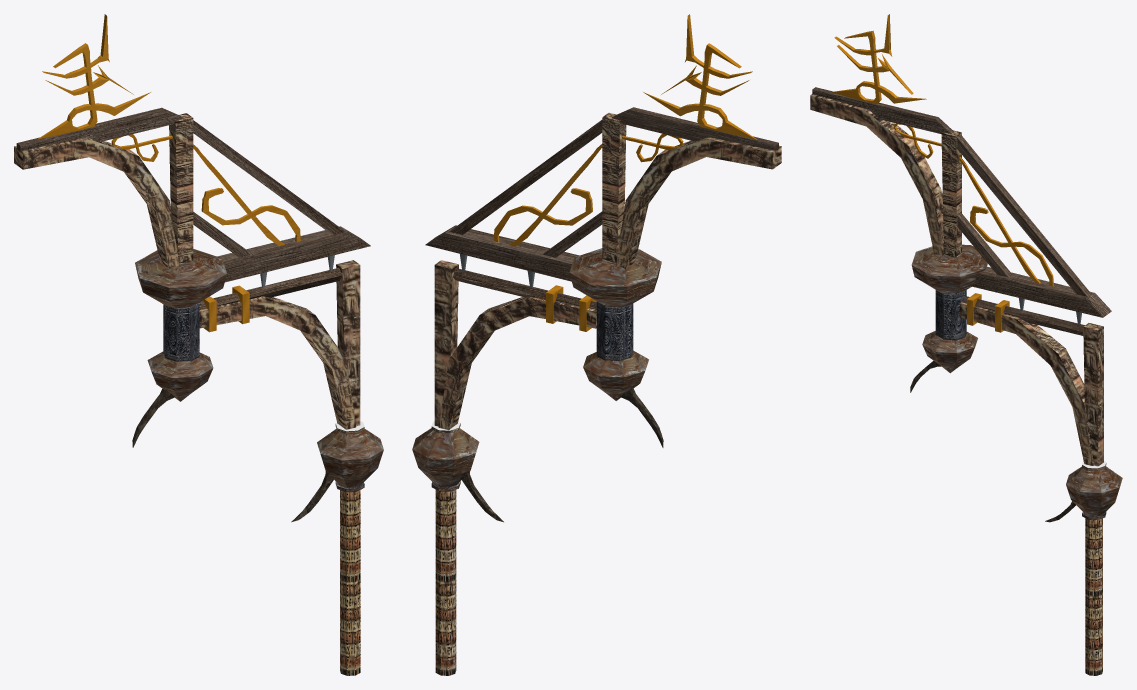
The model's file is HallwayArch_Single.fbx.
The picture shows the model from 3 angles, left to right: view 1: azimuth 30°, elevation 25°; view 2: azimuth 150°, elevation 25°; view 3: azimuth 330°, elevation 25°; orthographic projection. The views are drawn at different scales.
Visible parts, largest first — view 1: Mesh1; view 2: Mesh1; view 3: Mesh1.
Part boxes in pixels (x1,y1,x2,y2): Mesh1: (14,14,383,675); Mesh1: (412,14,781,675); Mesh1: (810,14,1122,675).
Size of the model in its own units: 50.32 by 95.2 by 11.7.
